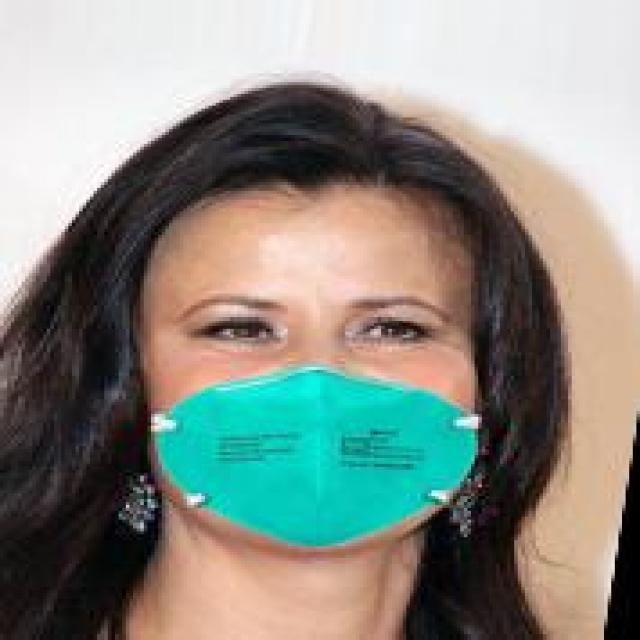mask: (94, 85, 572, 587)
